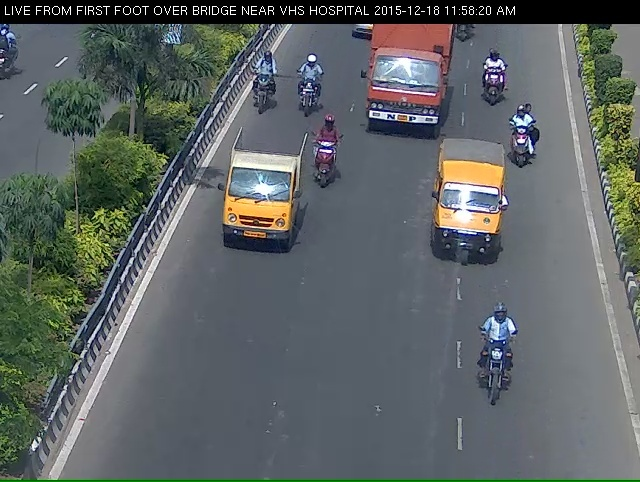Auto: (224, 129, 293, 259), (432, 149, 502, 277)
Bus: (366, 26, 440, 136)
Person: (476, 320, 516, 429), (308, 127, 334, 198), (239, 56, 266, 119), (481, 48, 505, 117), (292, 57, 316, 125), (510, 114, 535, 173)
